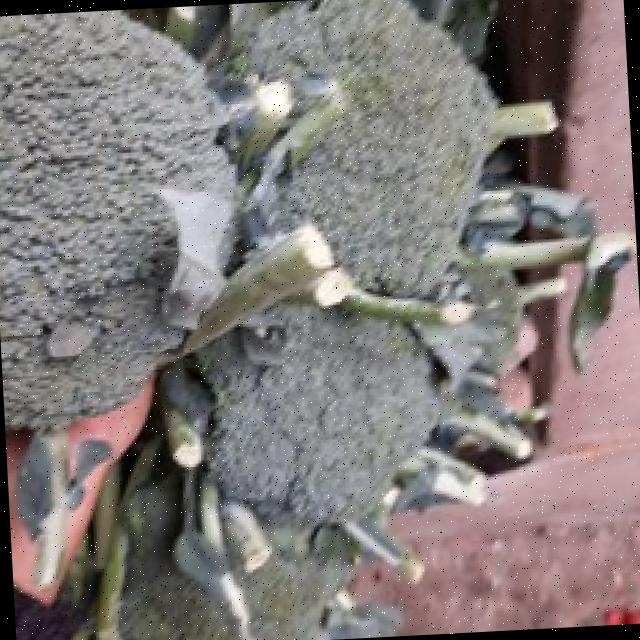Broccoli: (0, 11, 233, 428), (252, 0, 494, 295), (252, 0, 492, 297), (200, 306, 439, 526), (200, 306, 439, 525)
